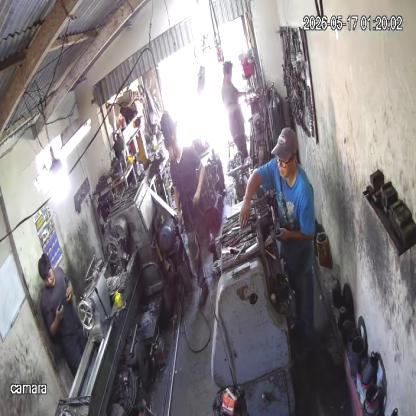lentes: (272, 154, 296, 170)
